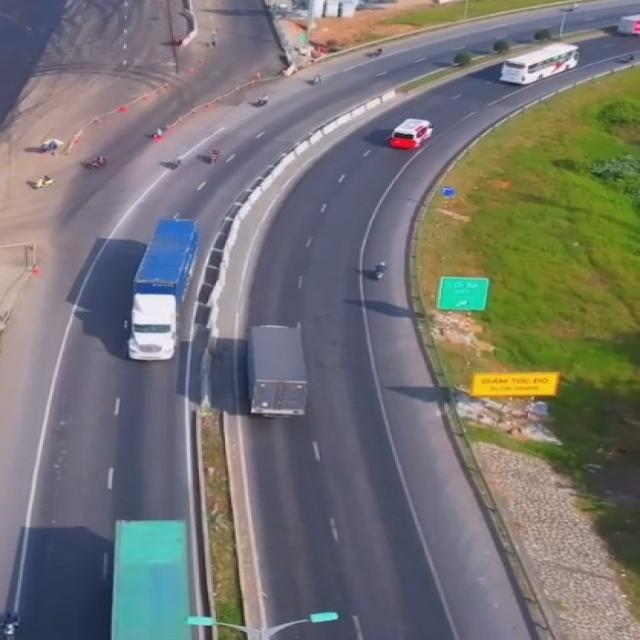bus: (498, 36, 585, 88), (391, 116, 436, 151)
motorbike: (0, 610, 23, 638), (369, 261, 395, 285)
truck: (127, 218, 204, 360), (110, 516, 198, 640), (237, 323, 317, 424)
